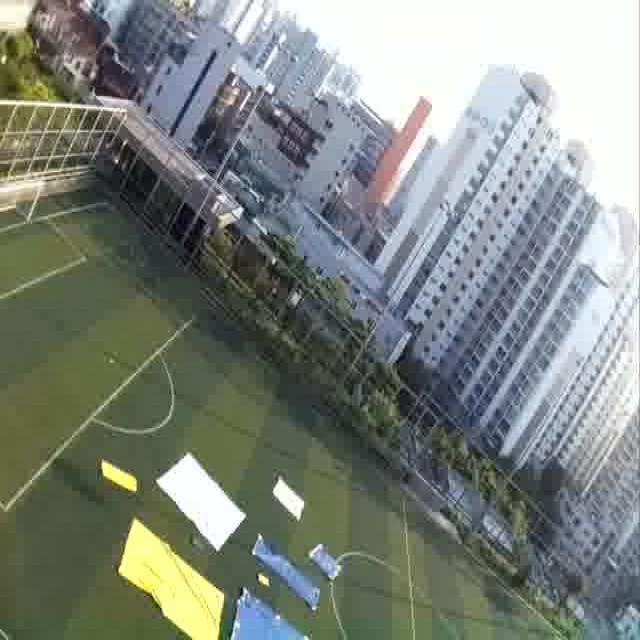danger: (230, 583, 282, 640), (249, 538, 294, 572), (312, 541, 344, 576)
safety: (157, 450, 247, 534), (267, 466, 308, 530)
warning: (109, 553, 226, 640), (94, 450, 140, 499)
